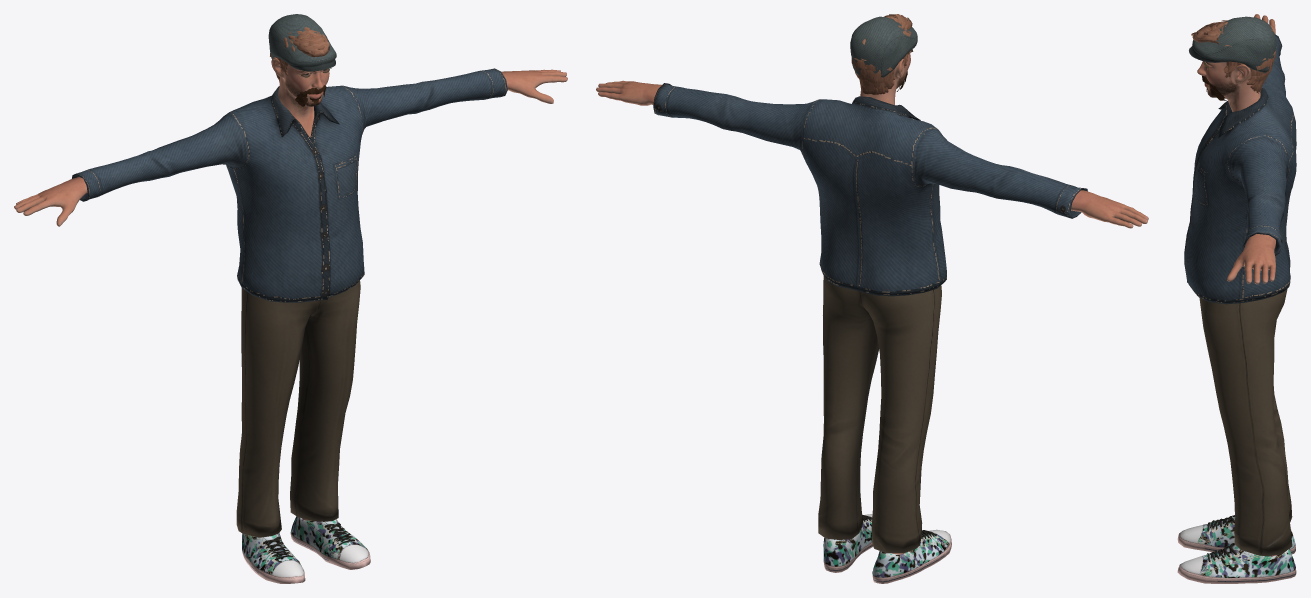
The picture shows the model from 3 angles, left to right: view 1: azimuth 30°, elevation 25°; view 2: azimuth 150°, elevation 25°; view 3: azimuth 270°, elevation 25°; orthographic projection.
Parts seen in each view (by area): view 1: Tops, Bottoms, Body, Shoes, Hats, Hair; view 2: Tops, Bottoms, Shoes, Body, Hats, Hair; view 3: Tops, Bottoms, Shoes, Body, Hats, Hair, Moustaches.
Boxes of the visible parts, x1,y1,x2,y2 form: Tops: (72,68,507,302); Bottoms: (236,280,360,537); Body: (14,57,567,520); Shoes: (242,516,370,583); Hats: (268,14,336,71); Hair: (270,27,329,82); Tops: (653,83,1087,296); Bottoms: (818,276,941,553); Shoes: (823,514,951,583); Body: (596,50,1148,554); Hats: (850,16,917,78); Hair: (851,14,912,94); Tops: (1184,34,1296,304); Bottoms: (1199,289,1292,556); Shoes: (1177,515,1296,583); Body: (1197,14,1277,556); Hats: (1189,16,1276,72); Hair: (1191,20,1276,93); Moustaches: (1202,76,1226,100).
Size of the model in its own units: 191 by 179 by 35.52.
8 materials, 8 textured.
